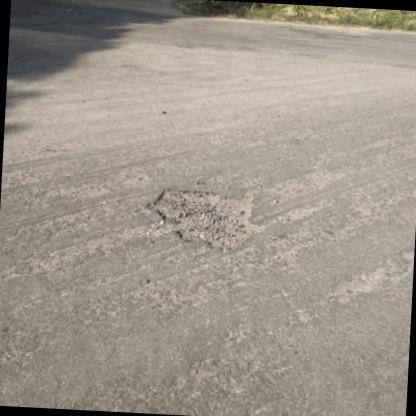pothole: (151, 184, 257, 252)
